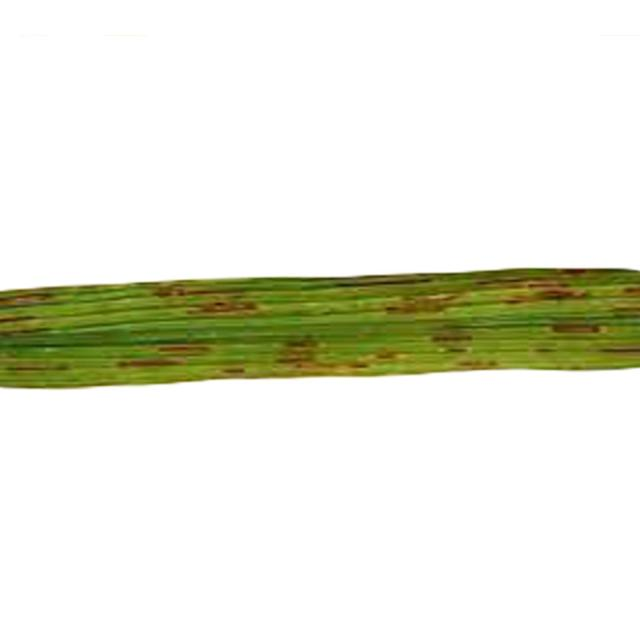Brown spot: (2, 264, 640, 411)
